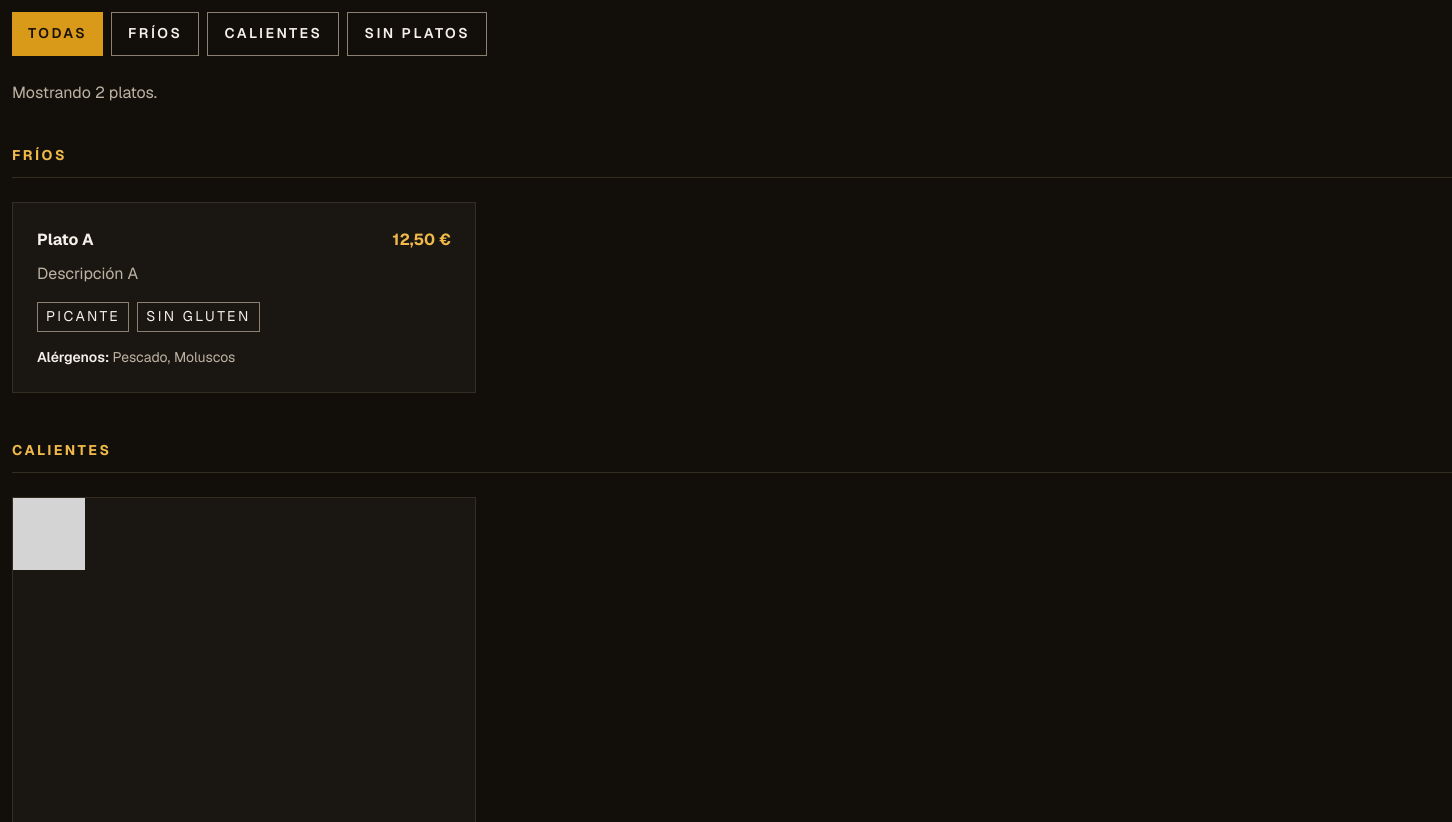
Test: CA-02 filtro de la carta › una categoría sin platos muestra el estado vacío
The width and height of the screenshot is (1452, 822).
Click the button "Sin platos" at {"x": 417, "y": 34}, box top-left (347, 12), bottom-right (487, 56)
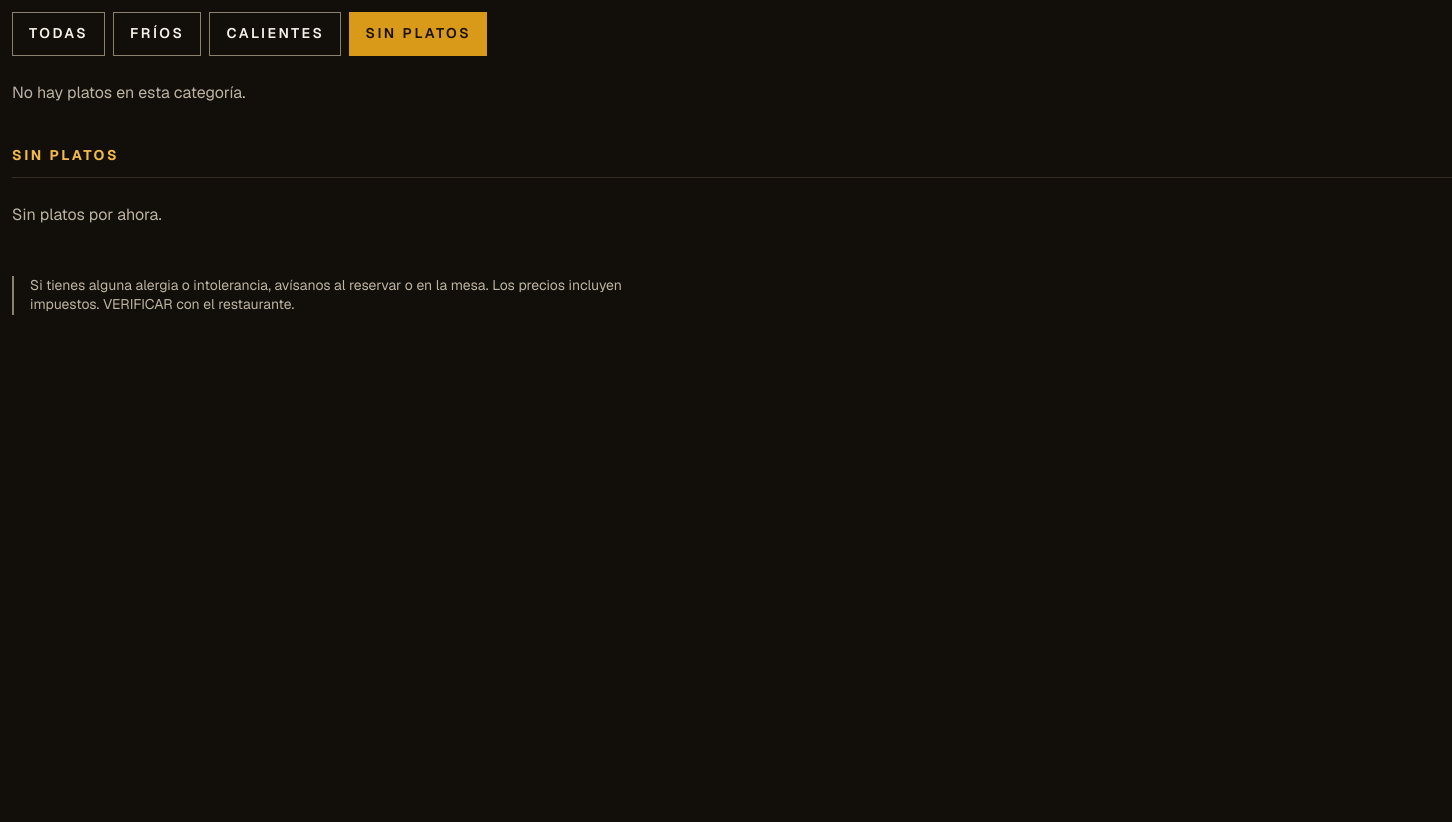
expect the text "Sin platos por ahora." is shown: met, box top-left (12, 204), bottom-right (162, 225)
expect the message reads "No hay platos en esta categoría.": met, box top-left (12, 82), bottom-right (246, 103)
